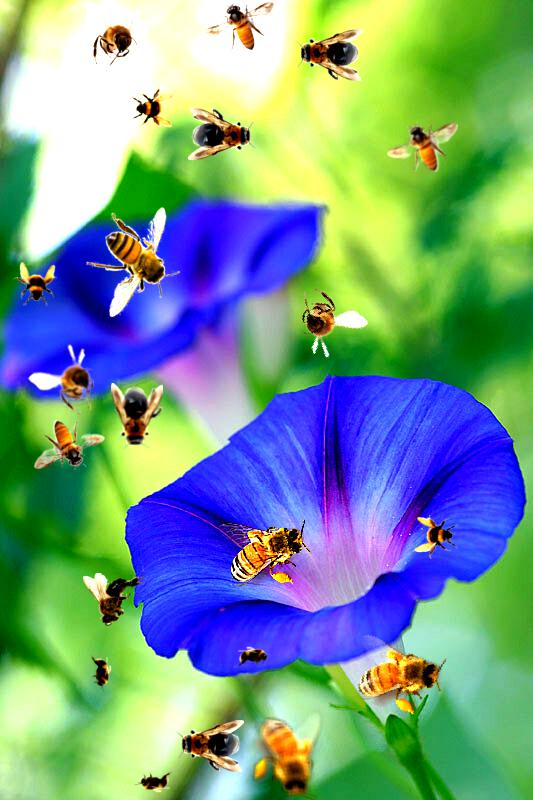Bee: (341, 628, 453, 725), (86, 207, 180, 318), (27, 333, 120, 427), (276, 276, 369, 368), (247, 704, 327, 800), (218, 519, 311, 587), (86, 2, 147, 72), (387, 122, 458, 172), (204, 1, 275, 51), (34, 420, 105, 470), (176, 720, 244, 772), (188, 108, 256, 160), (295, 29, 363, 81), (111, 383, 163, 451), (83, 573, 145, 626), (414, 515, 458, 559), (13, 262, 57, 306), (131, 85, 175, 129), (234, 646, 274, 668), (90, 653, 112, 693), (134, 771, 174, 793)
